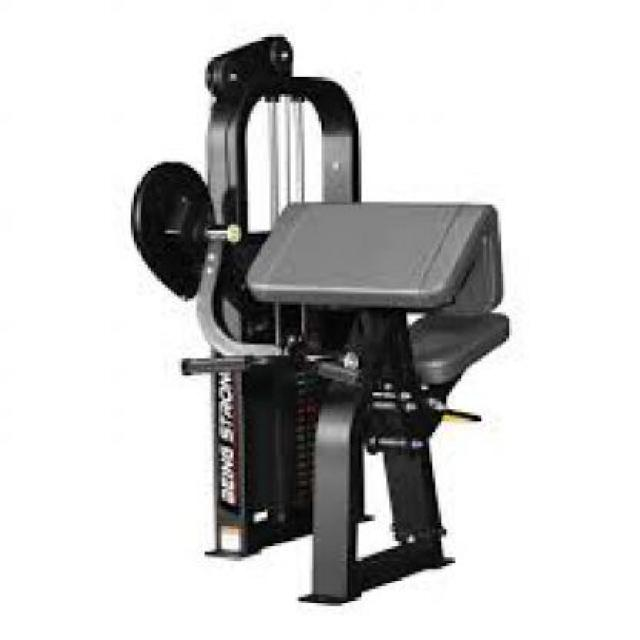arm curl machine: (132, 32, 512, 605)
